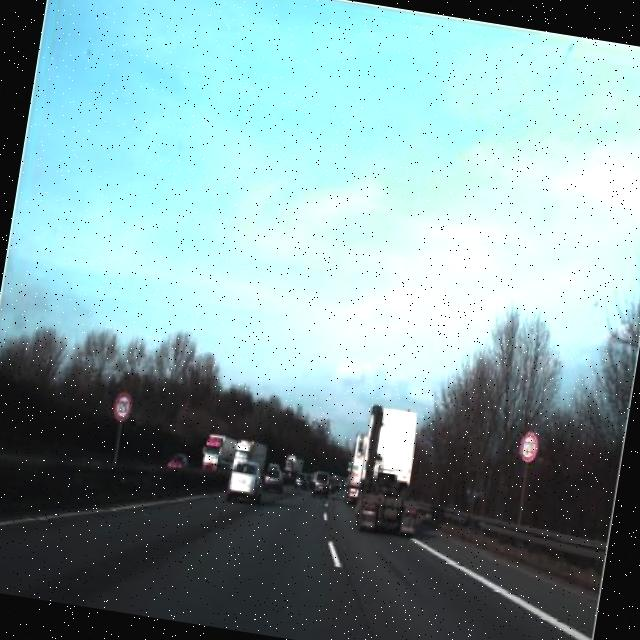Ograniczenie predkosci do 120: (516, 428, 542, 468), (110, 388, 134, 426)
